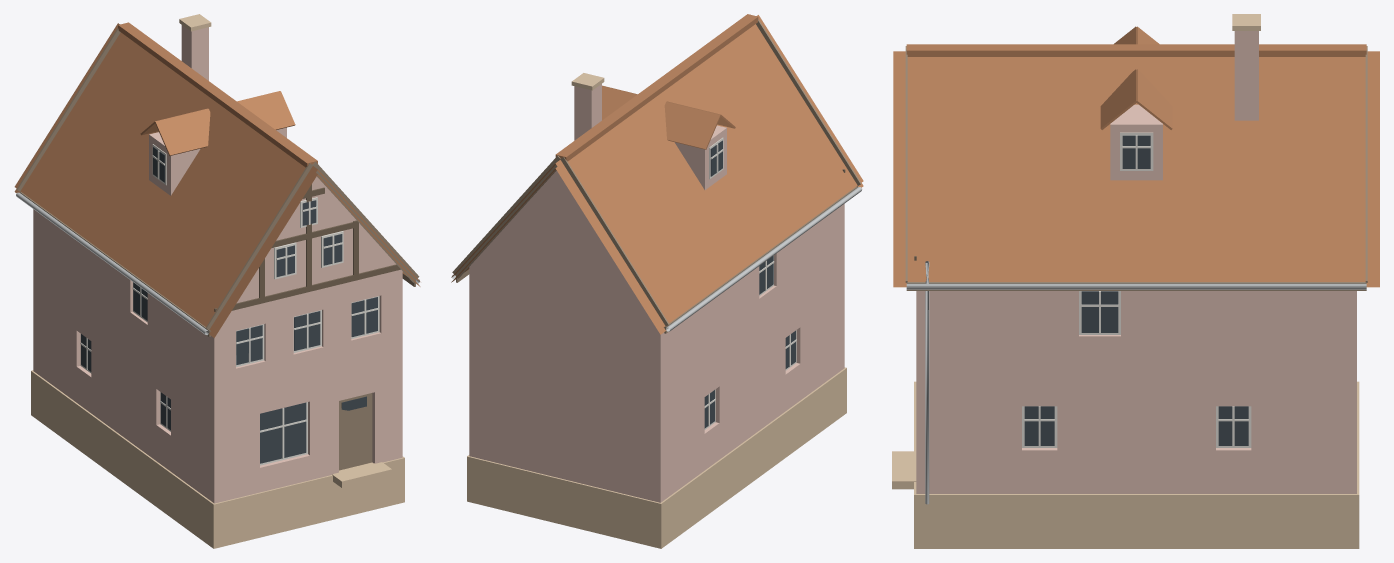
File: oldtown-gable-2-lod1.glb
3 renders of one model, left to right at view 1: azimuth 30°, elevation 25°; view 2: azimuth 150°, elevation 25°; view 3: azimuth 270°, elevation 25°, orthographic. The views are drawn at different scales.
Parts seen in each view (by area): view 1: oldtown-gable-2-plaster.001; view 2: oldtown-gable-2-plaster.001; view 3: oldtown-gable-2-plaster.001.
Boxes of the visible parts, x1,y1,x2,y2 form: oldtown-gable-2-plaster.001: [14, 14, 420, 548]; oldtown-gable-2-plaster.001: [451, 14, 863, 548]; oldtown-gable-2-plaster.001: [892, 14, 1379, 548].
Bounding box in the file's own units: 6.86 × 12.16 × 11.07.
